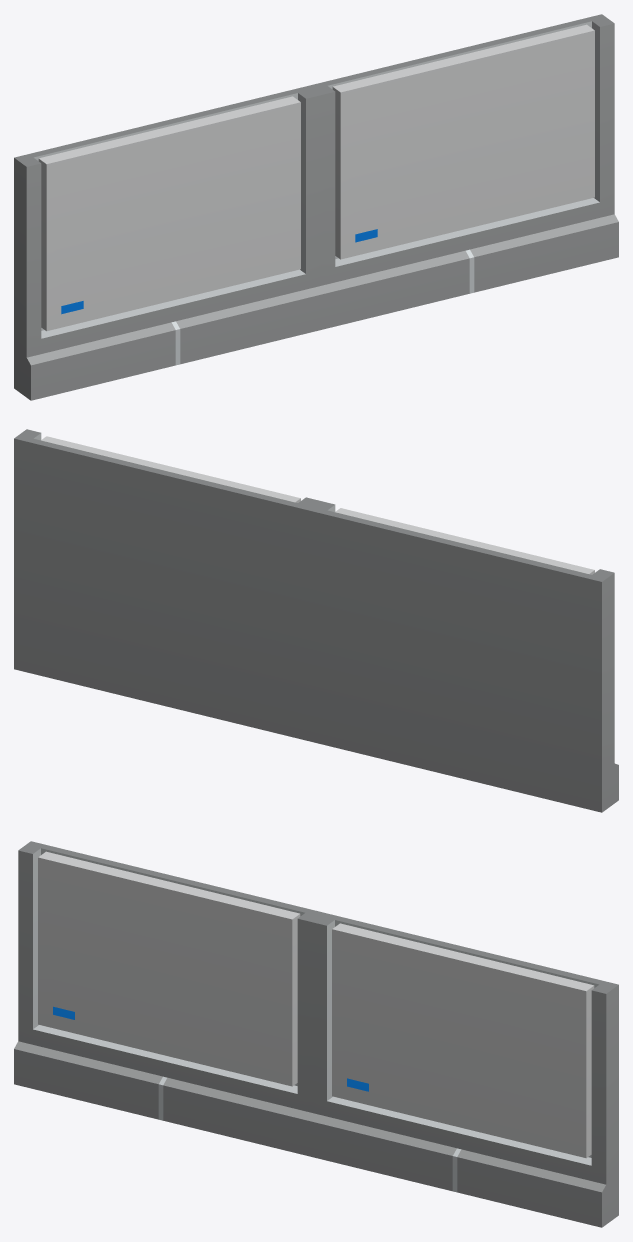
The model's file is Wall_type_A_032.glb.
3 renders of one model, top to bottom at view 1: azimuth 30°, elevation 25°; view 2: azimuth 150°, elevation 25°; view 3: azimuth 330°, elevation 25°, orthographic.
Visible parts, largest first — view 1: Wall_type_A_032; view 2: Wall_type_A_032; view 3: Wall_type_A_032.
Boxes of the visible parts, x1,y1,x2,y2 form: Wall_type_A_032: (14,14,618,400); Wall_type_A_032: (14,429,618,812); Wall_type_A_032: (14,841,618,1227).
Size of the model in its own units: 4 by 1.5 by 0.2.
Materials: 2 (2 with a texture image).
